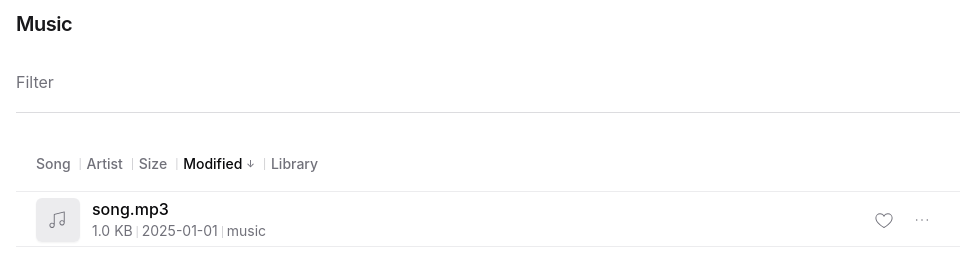
Test: LibraryScreen › audio rows can toggle liked state
The width and height of the screenshot is (977, 264).
expect the text "song.mp3" is shown: met, box [92,199,169,219]
expect the 1st icon is shown: met, box [48,210,68,230]
Click the button named "Like song.mp3" at (884, 220), box [866,202,902,238]
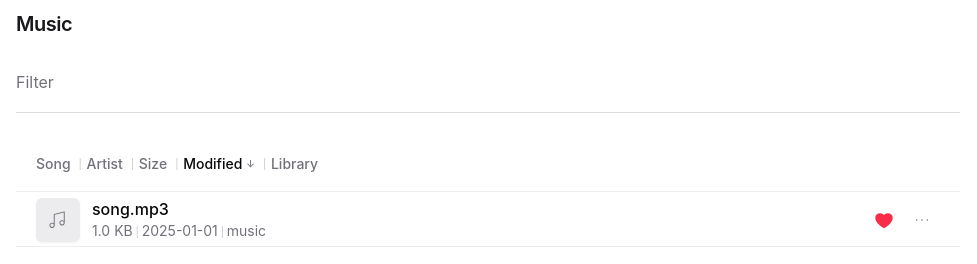
expect the button named "Unlike song.mp3" is shown: met, box [866,202,902,238]
